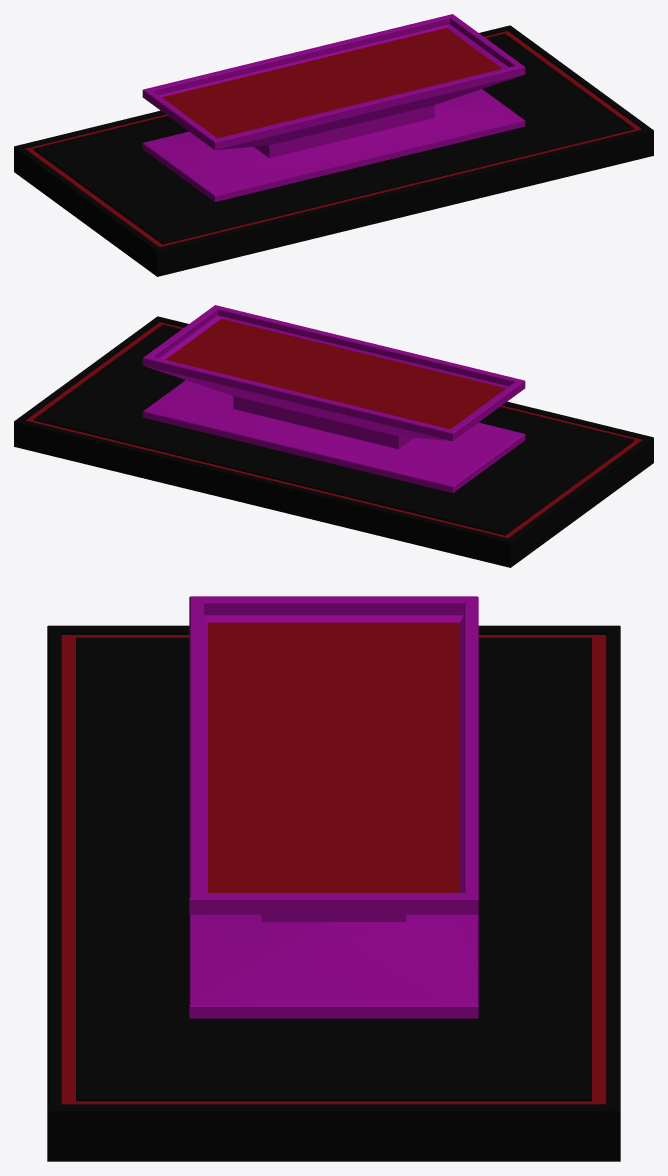
File: SM_BloodFountain_Large.fbx
3 views of the same model, one above another, from view 1: azimuth 30°, elevation 25°; view 2: azimuth 150°, elevation 25°; view 3: azimuth 270°, elevation 25° (orthographic). The views are drawn at different scales.
Parts seen in each view (by area): view 1: SM_BloodFountain_Large; view 2: SM_BloodFountain_Large; view 3: SM_BloodFountain_Large.
Boxes of the visible parts, box(x1,y1,x2,y2) form: SM_BloodFountain_Large: box(14, 14, 653, 276); SM_BloodFountain_Large: box(14, 305, 653, 567); SM_BloodFountain_Large: box(47, 596, 620, 1161).
Bounding box in the file's own units: 800 × 400 × 132.
